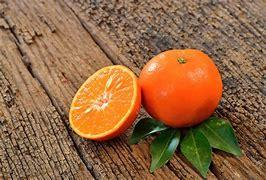orange: (134, 48, 229, 130), (66, 62, 145, 148)
